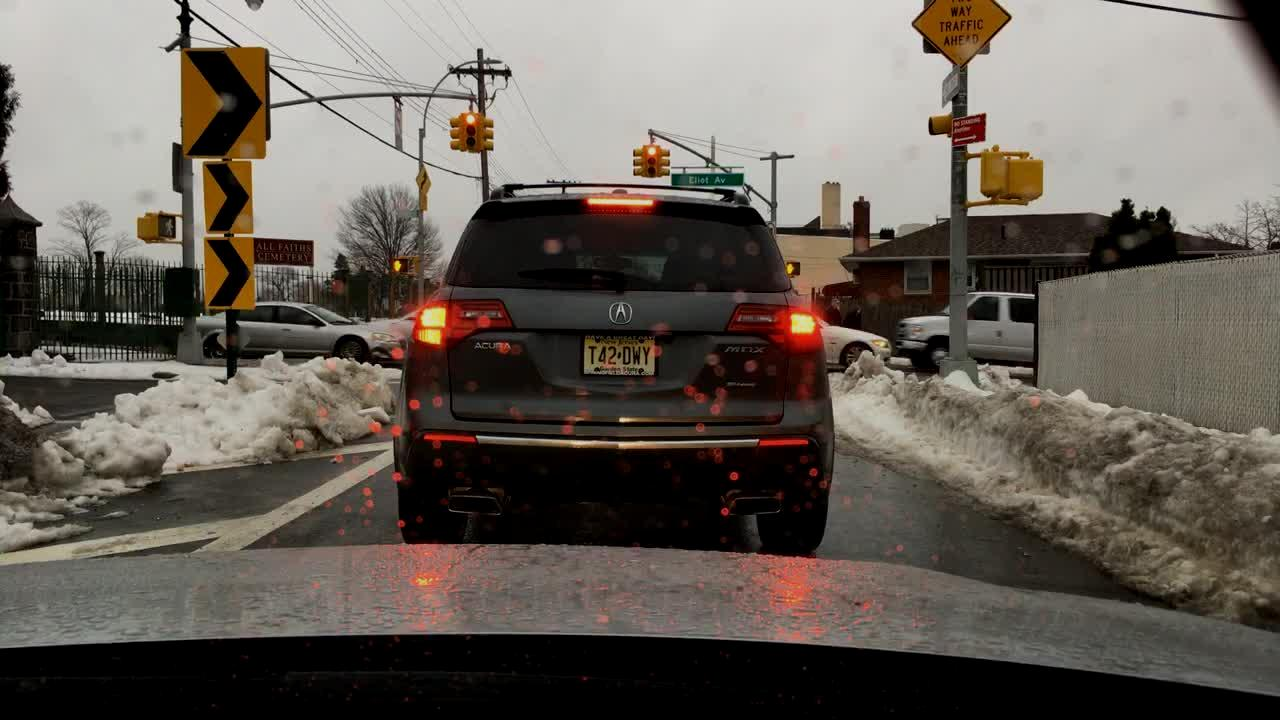acura: (604, 297, 637, 327)
